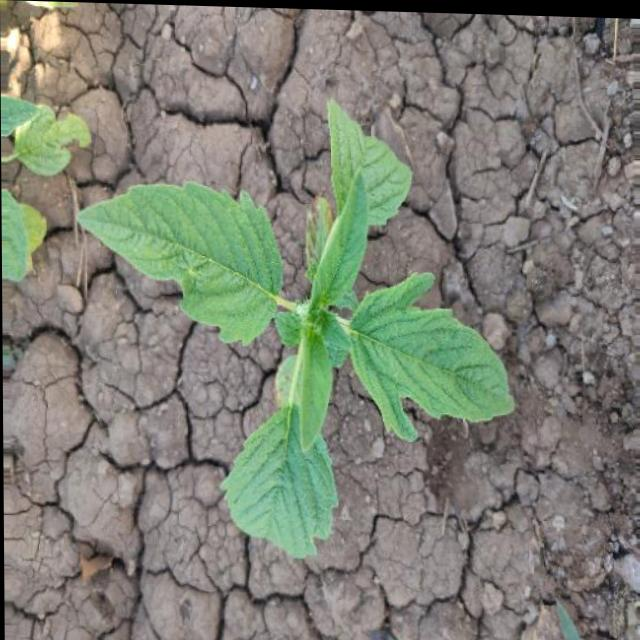crop: (64, 55, 545, 575)
